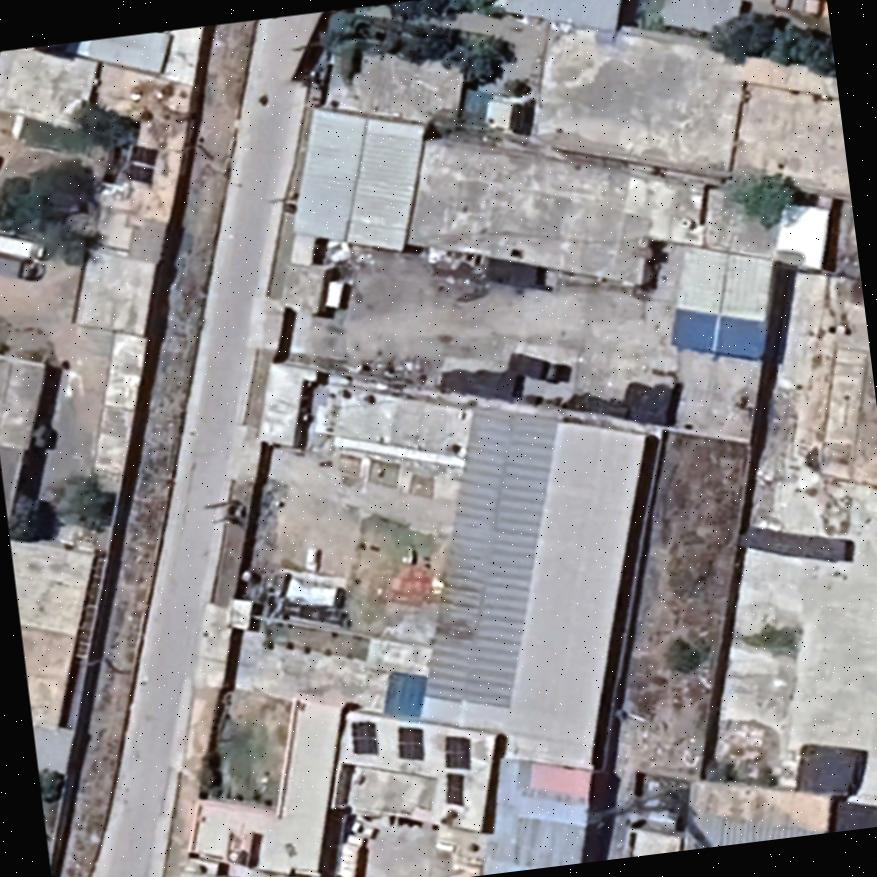Solarpanel: (125, 141, 158, 185), (346, 718, 379, 754), (396, 723, 426, 760), (441, 734, 473, 768), (442, 772, 464, 810)
